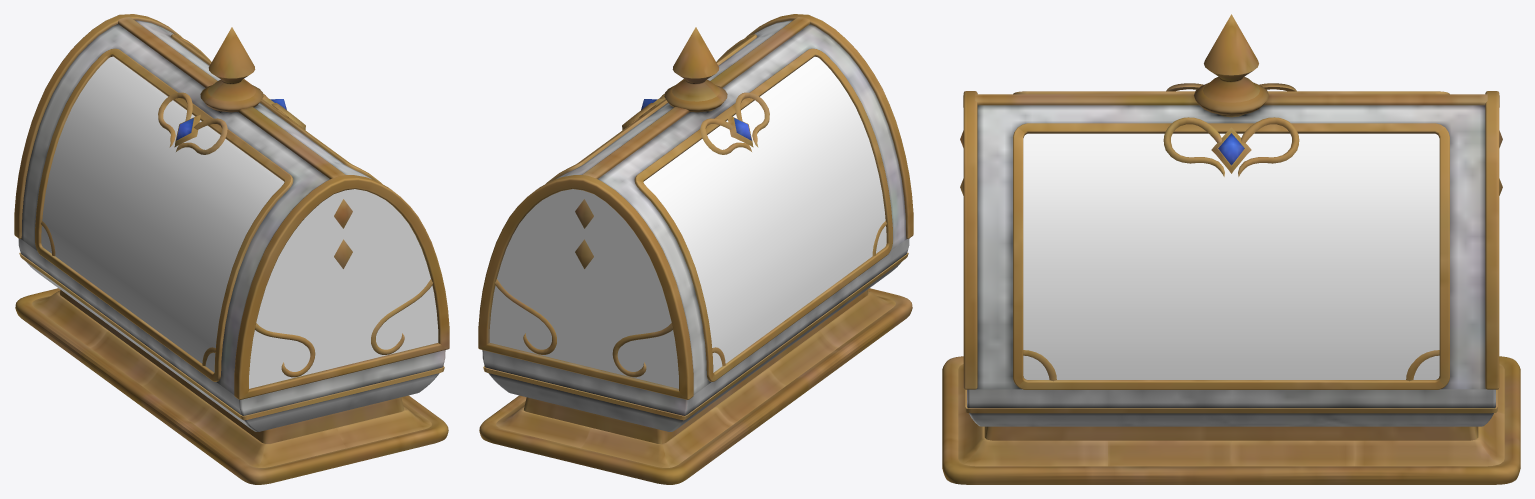
File: SM_EggHatchingMachineLarge_17eb89.glb
3 views of the same model, side by side, from view 1: azimuth 30°, elevation 25°; view 2: azimuth 150°, elevation 25°; view 3: azimuth 270°, elevation 25° (orthographic). The views are drawn at different scales.
Bounding box in the file's own units: 1.64 × 2.58 × 3.28.
2 materials, 1 textured.
